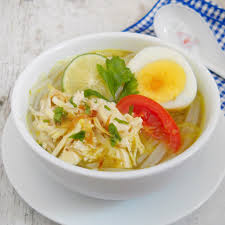soto: (25, 32, 224, 171)
